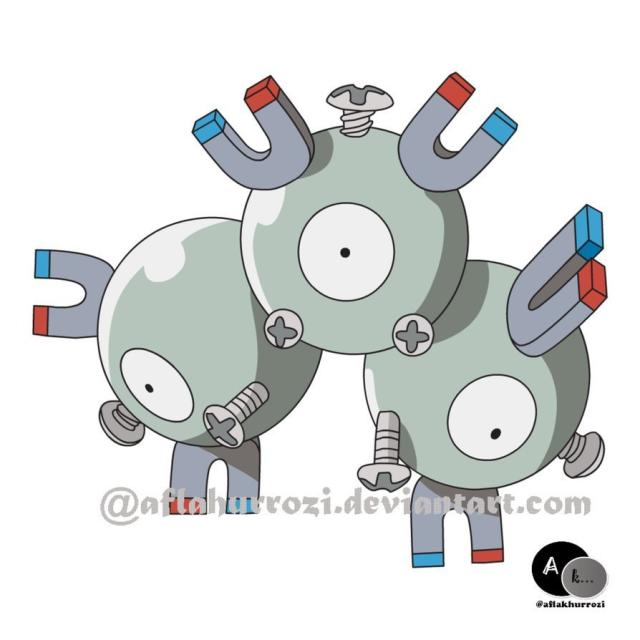Magneton: (82, 71, 609, 522)
